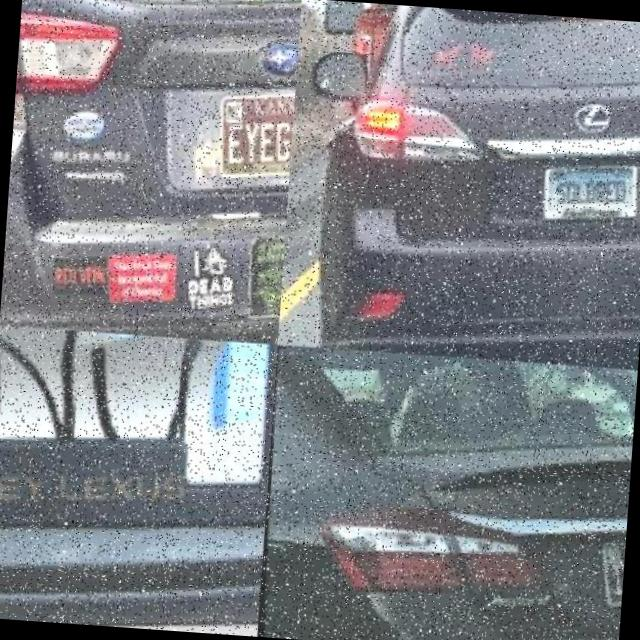LicensePlate: (0, 324, 272, 532), (215, 97, 294, 183), (541, 170, 636, 223), (599, 546, 625, 611)
